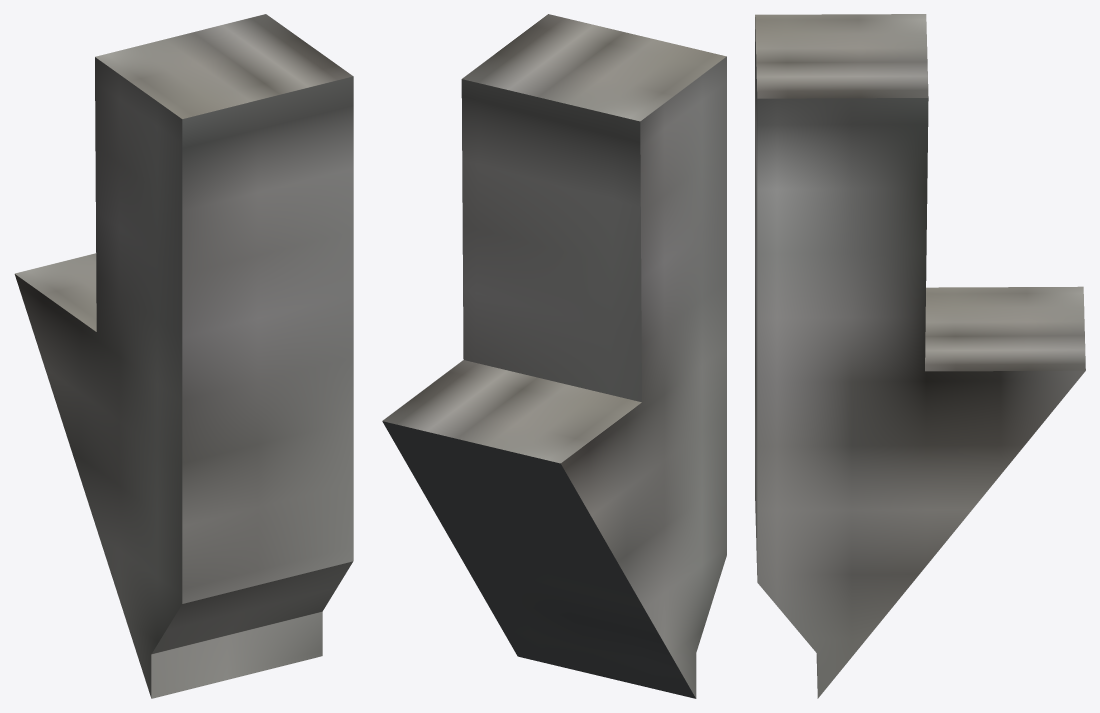
File: euroB_10.glb
3 renders of one model, left to right at view 1: azimuth 30°, elevation 25°; view 2: azimuth 150°, elevation 25°; view 3: azimuth 270°, elevation 25°, orthographic. The views are drawn at different scales.
Visible parts, largest first — view 1: geometry_0; view 2: geometry_0; view 3: geometry_0.
Boxes of the visible parts, left/top/right/bottom form: geometry_0: left=14, top=14, right=353, bottom=698; geometry_0: left=382, top=14, right=726, bottom=698; geometry_0: left=755, top=14, right=1085, bottom=698.
Bounding box in the file's own units: 0.463 × 1.52 × 0.7572.
Materials: 1 (1 with a texture image).
